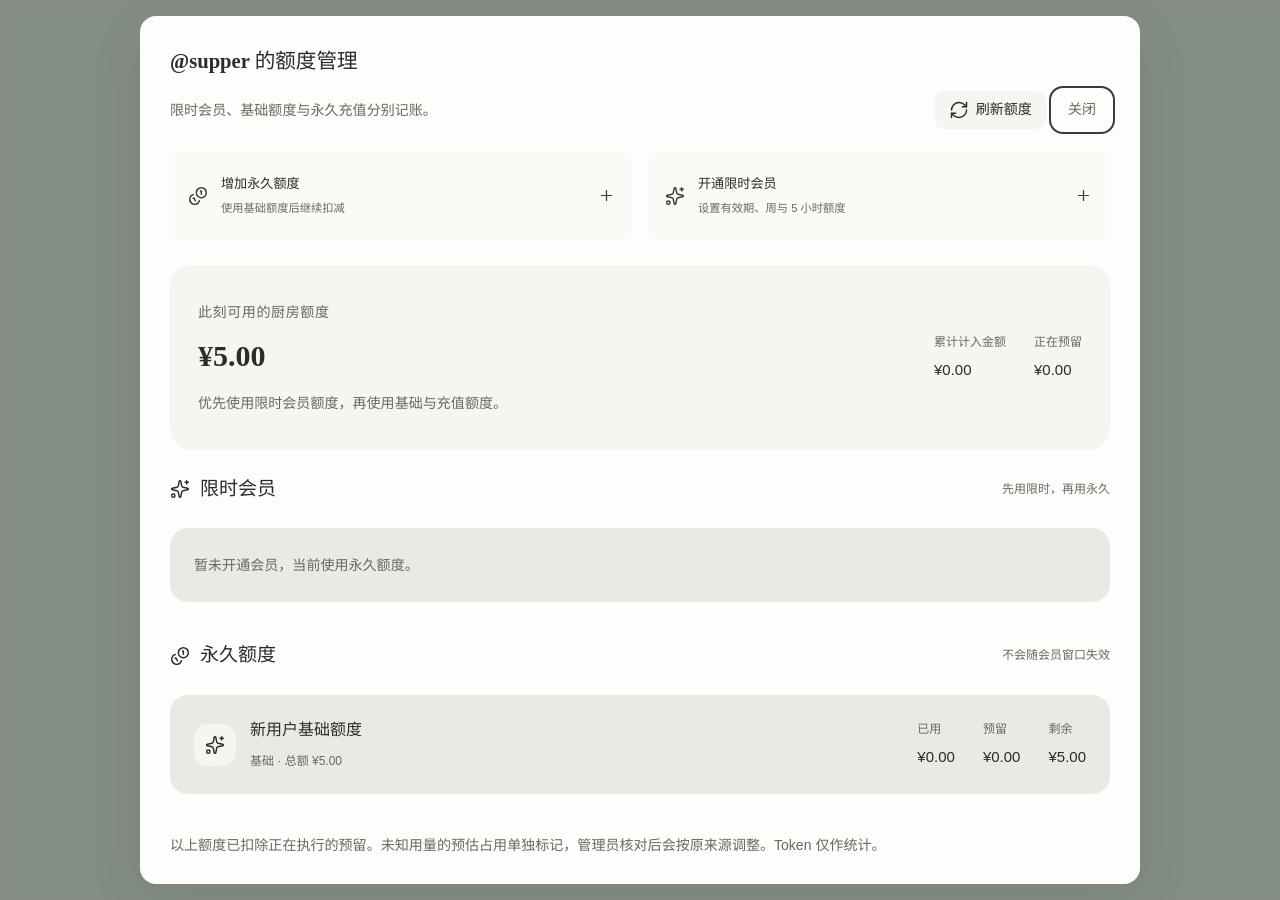
Financial administration › retries an unknown network result with the exact original payload
The image size is (1280, 900).
Click the button "增加永久额度 使用基础额度后继续扣减" at (260, 183), box [170,151,633,241]
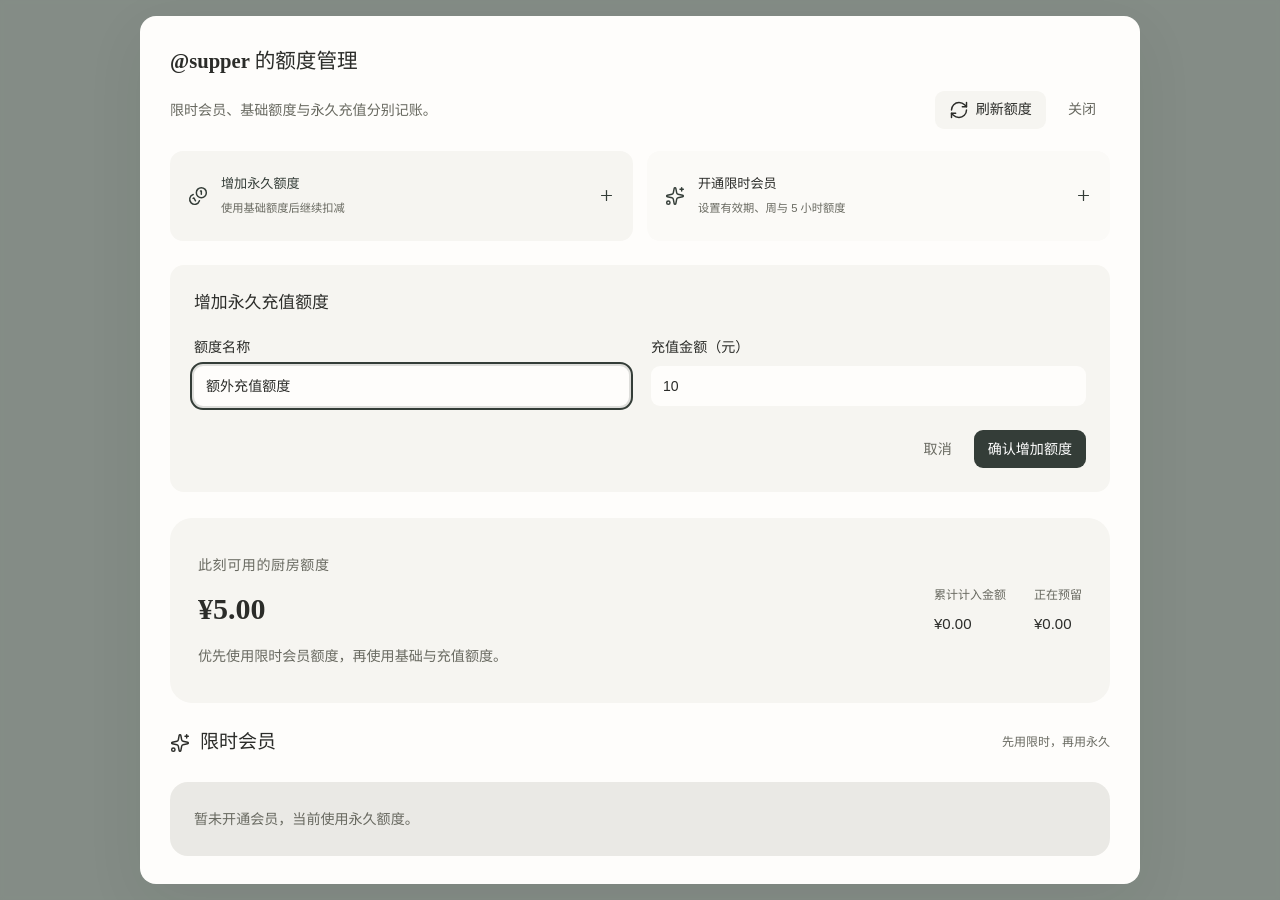
Submit the form "增加永久充值额度", box [170,265,1110,492]
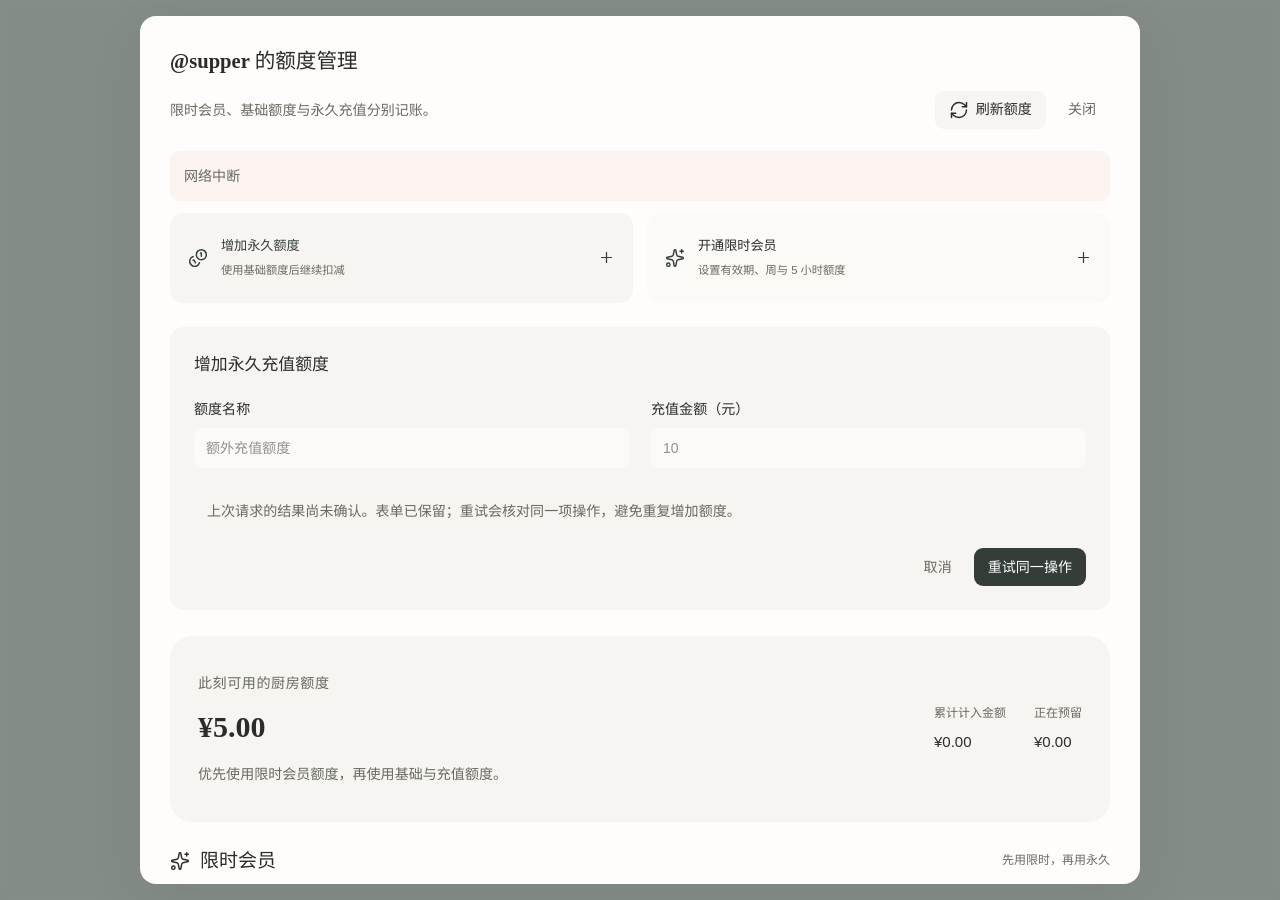
Expected: the button "重试同一操作" is shown
Expected: the number field labelled "充值金额（元）" is disabled, [651,428,1086,468]
Click the button "重试同一操作" at (1030, 568), box [974,548,1086,586]
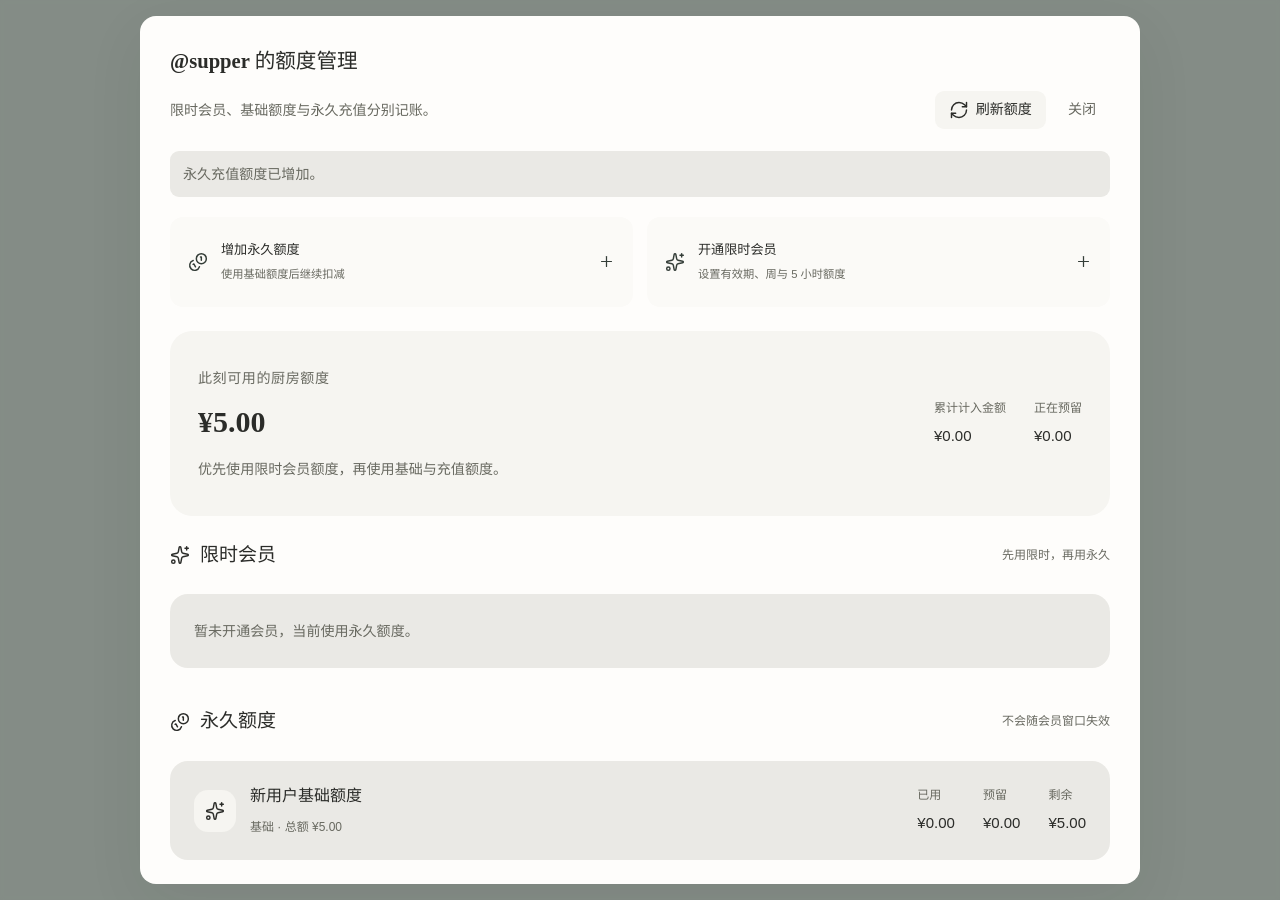
Expected: the text "永久充值额度已增加。" is shown, [170,151,1110,197]
